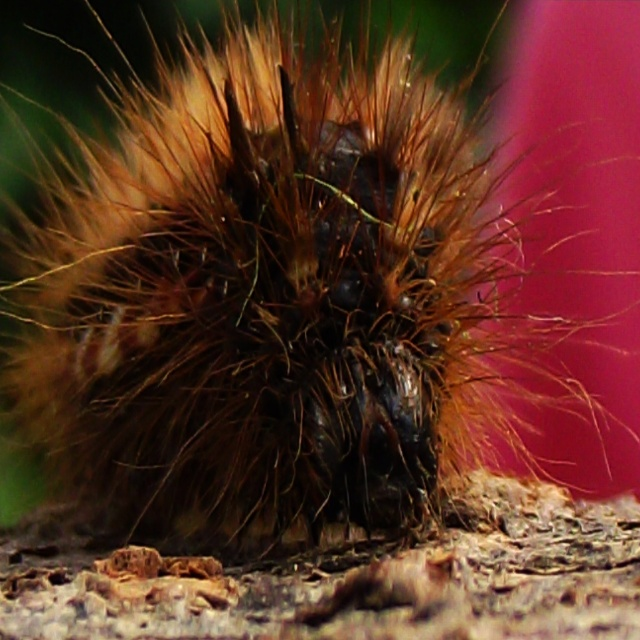Caterpillar: (0, 0, 640, 564)
